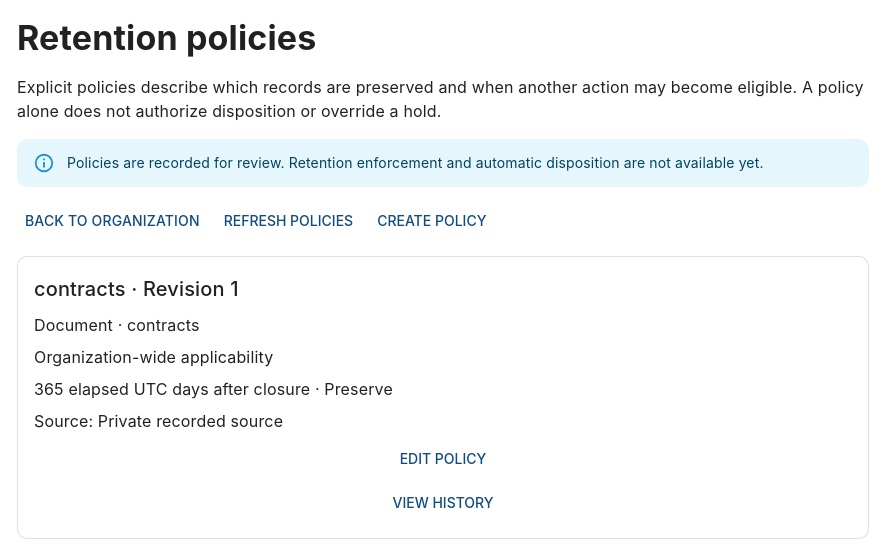
Test case: PRD-70 MUI private policy browsing › withdraws all private values after authority loss and never renders private diagnostics
This screenshot has width=887, height=556.
Expected: the text "Source: Private recorded source" is shown, [34,410,283,430]
What coordinates should you click on to do the following:
click the button "Refresh policies"
I would click on:
 (288, 221)
Its box is [216,203,361,240].
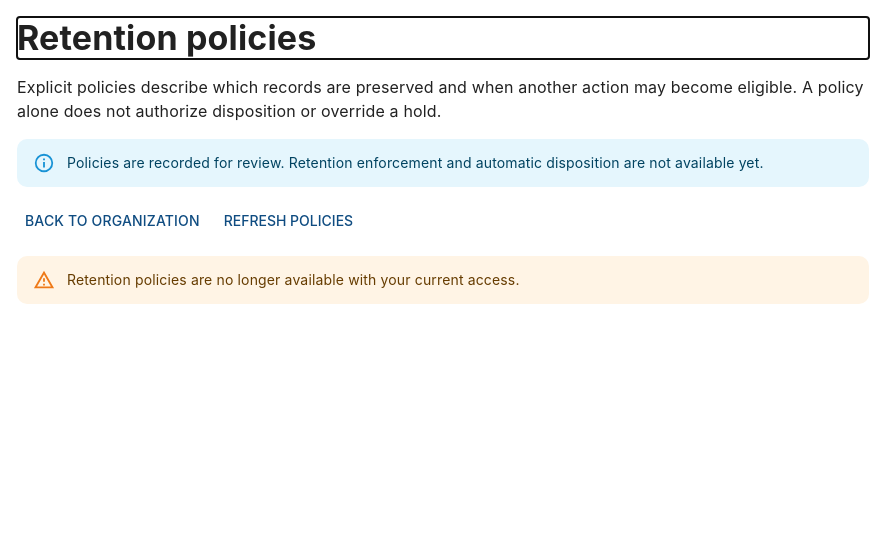
Now the text "Retention policies are no longer available with your current access." is shown, box [67,270,520,288]
Now the text "Source: Private recorded source" is gone
